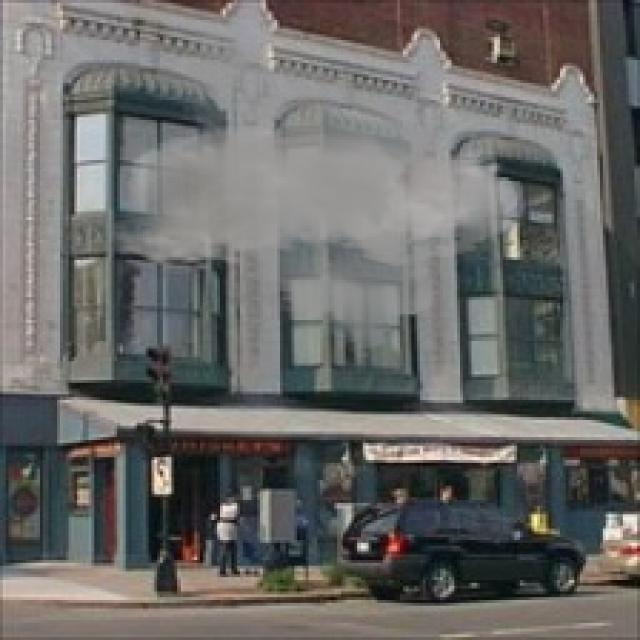smoke: (109, 14, 520, 360)
